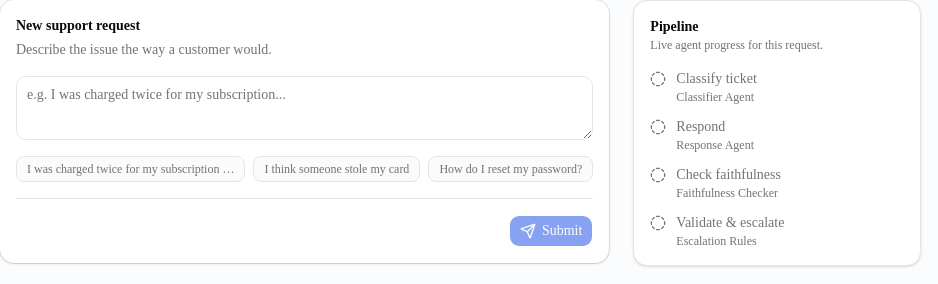
it: TicketForm › filling an example message populates the textarea
Click the button "How do I reset my password?": (511, 169) [428,156,593,182]
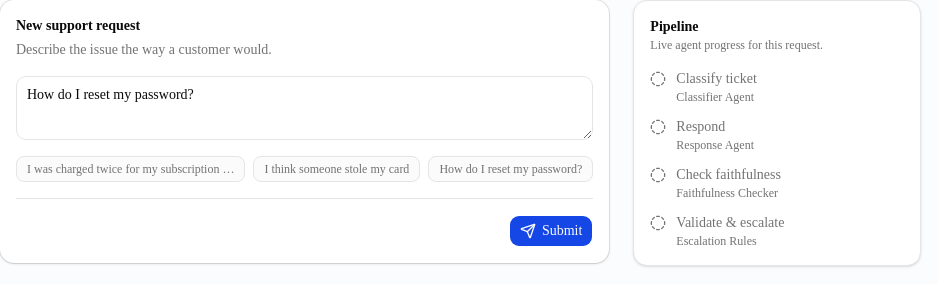
Now the text box named "Describe your issue" holds "How do I reset my password?", box [16,76,593,140]
